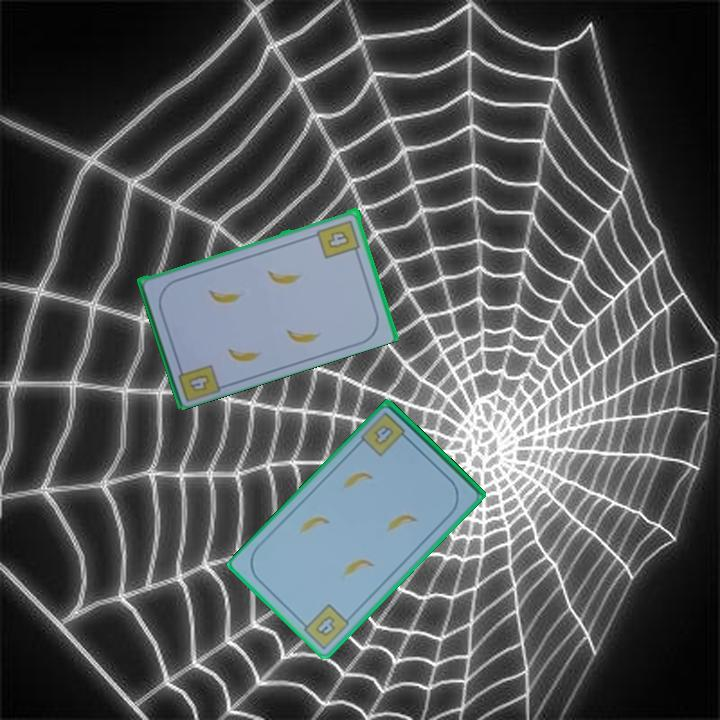4b: (296, 600, 352, 652), (314, 216, 363, 261), (174, 359, 223, 403), (370, 421, 397, 449)
